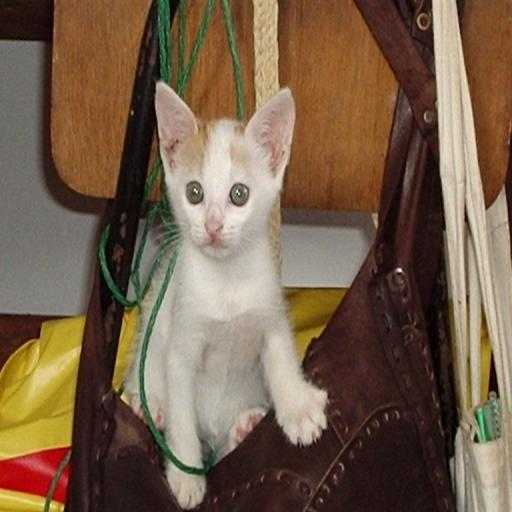cat: (120, 80, 328, 509)
